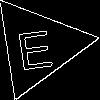E: (13, 20, 56, 70)
